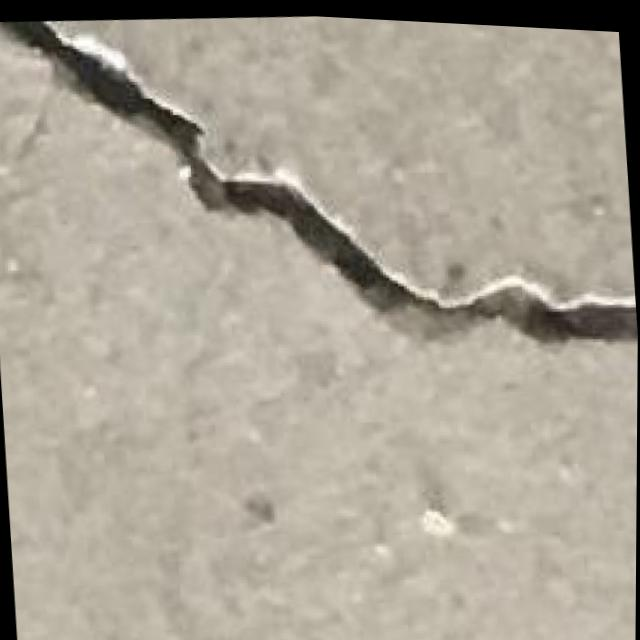Crack: (0, 0, 640, 416)
